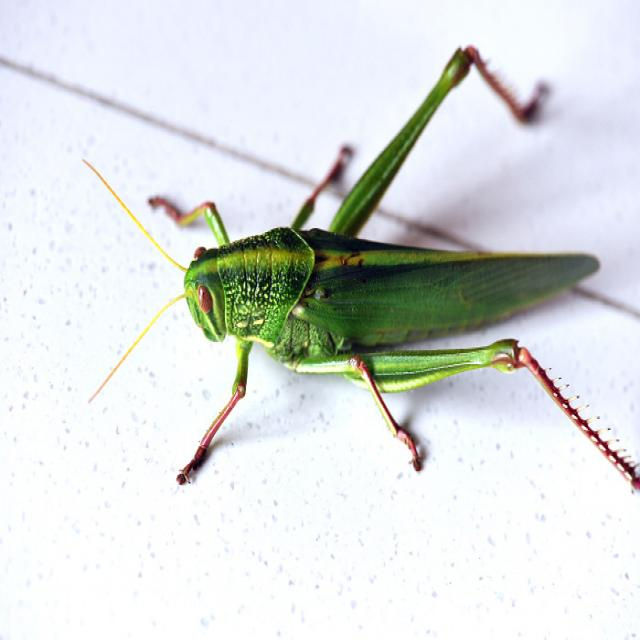ZhaMeng: (148, 47, 608, 448)
